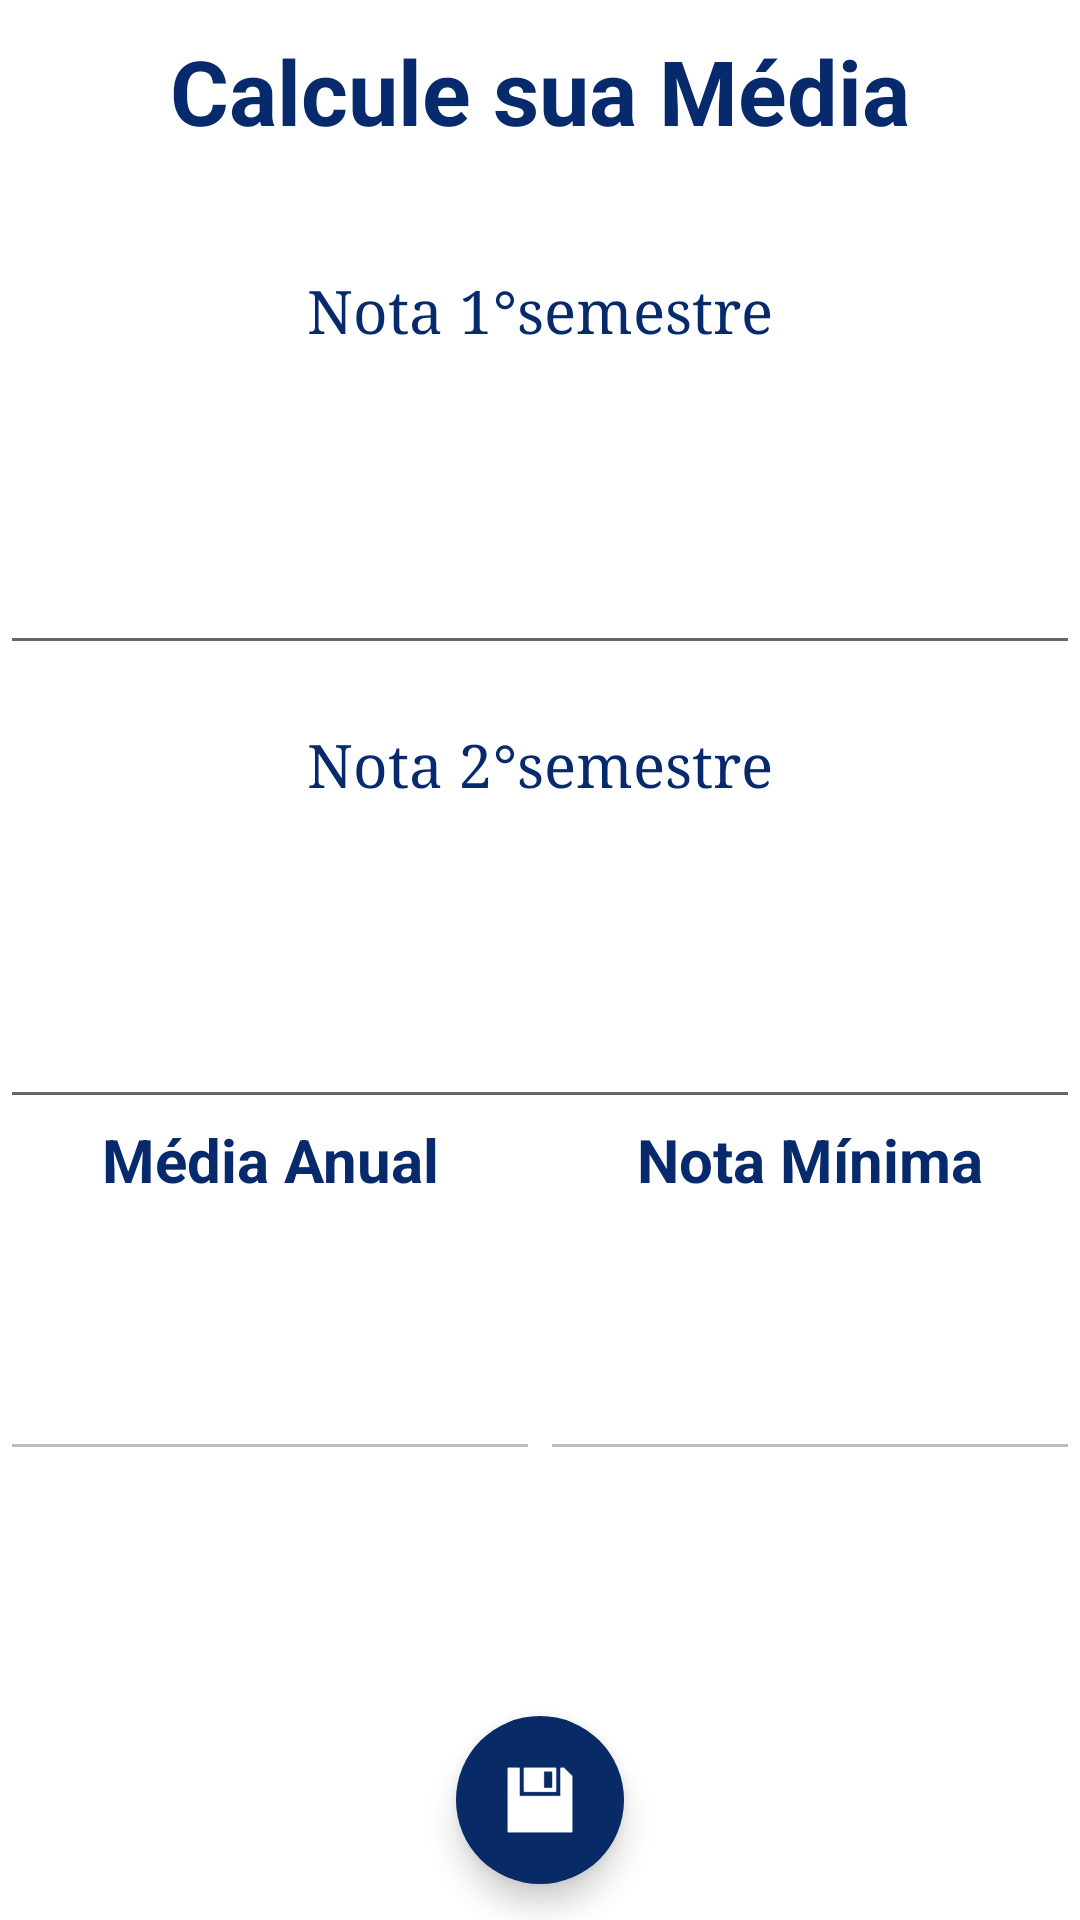

Icons on this 1080w x 1920h Android screen, each with its box as {"left": x1, "top": y1, "right": x2, "bottom": y2}:
fab save: {"left": 456, "top": 1716, "right": 624, "bottom": 1884}
